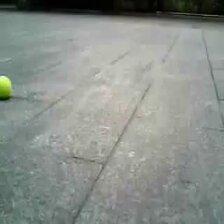tennis: (1, 75, 11, 98)
